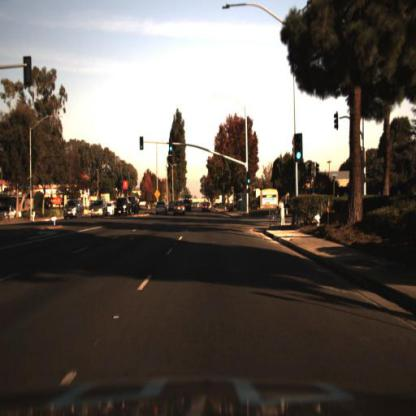car: (61, 196, 85, 220), (110, 196, 132, 220), (113, 196, 134, 220), (90, 197, 109, 219), (152, 198, 170, 220), (173, 198, 189, 219), (127, 194, 141, 213), (202, 197, 214, 217), (181, 197, 193, 215)
pedestrian: (277, 197, 289, 227)
trafficLight-Green: (295, 135, 307, 166), (295, 134, 304, 168), (167, 139, 175, 156), (169, 136, 174, 154), (246, 173, 252, 187), (248, 172, 253, 188)
trafficLight-GreenLeft: (137, 136, 145, 154), (140, 132, 145, 152), (26, 176, 32, 192)
